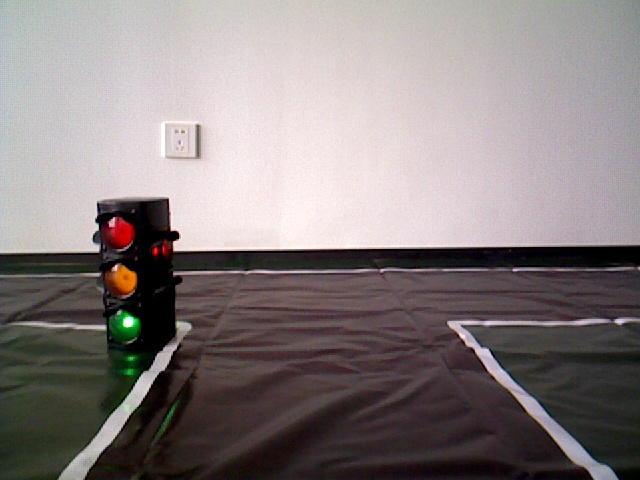green: (95, 202, 174, 340)
